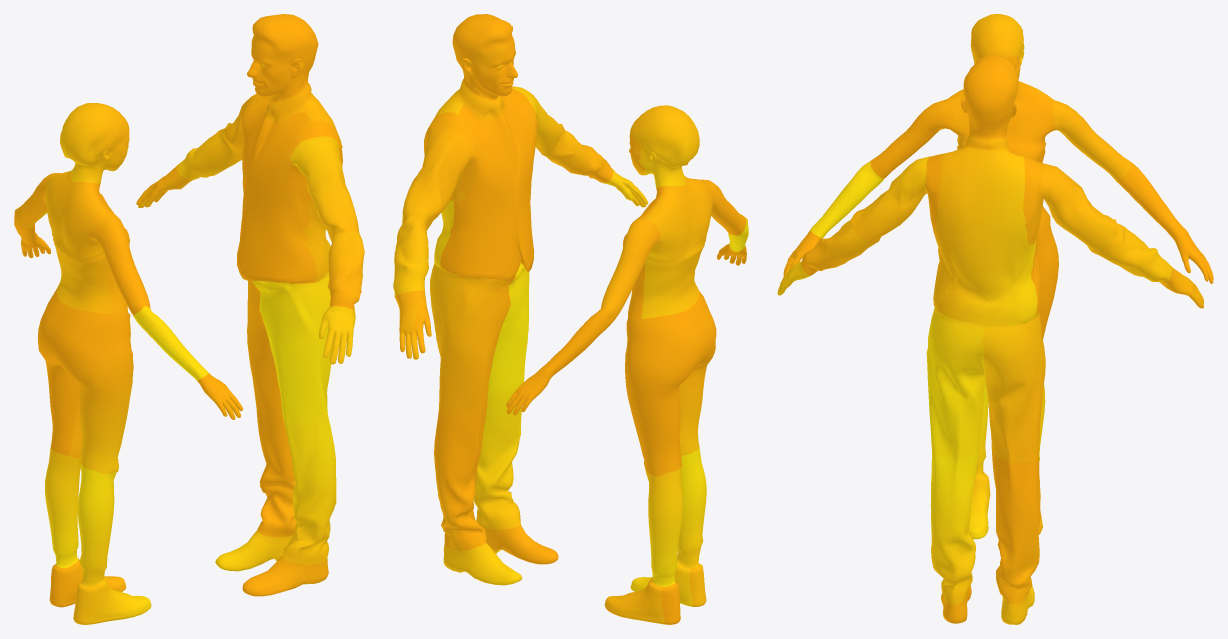
The model's file is cop.gltf.
3 renders of one model, left to right at view 1: azimuth 30°, elevation 25°; view 2: azimuth 150°, elevation 25°; view 3: azimuth 270°, elevation 25°, orthographic.
Parts seen in each view (by area): view 1: rp_eric_rigged_001_geo, rp_alison_rigged_001_geo.002; view 2: rp_eric_rigged_001_geo, rp_alison_rigged_001_geo.002; view 3: rp_eric_rigged_001_geo, rp_alison_rigged_001_geo.002.
Boxes of the visible parts, x1,y1,x2,y2 form: rp_eric_rigged_001_geo: (136, 14, 364, 596); rp_alison_rigged_001_geo.002: (14, 103, 242, 624); rp_eric_rigged_001_geo: (393, 14, 648, 585); rp_alison_rigged_001_geo.002: (506, 105, 748, 624); rp_eric_rigged_001_geo: (777, 55, 1203, 624); rp_alison_rigged_001_geo.002: (783, 14, 1213, 539).
Bounding box in the file's own units: 97.29 × 186 × 134.
Materials: 2 (2 with a texture image).
